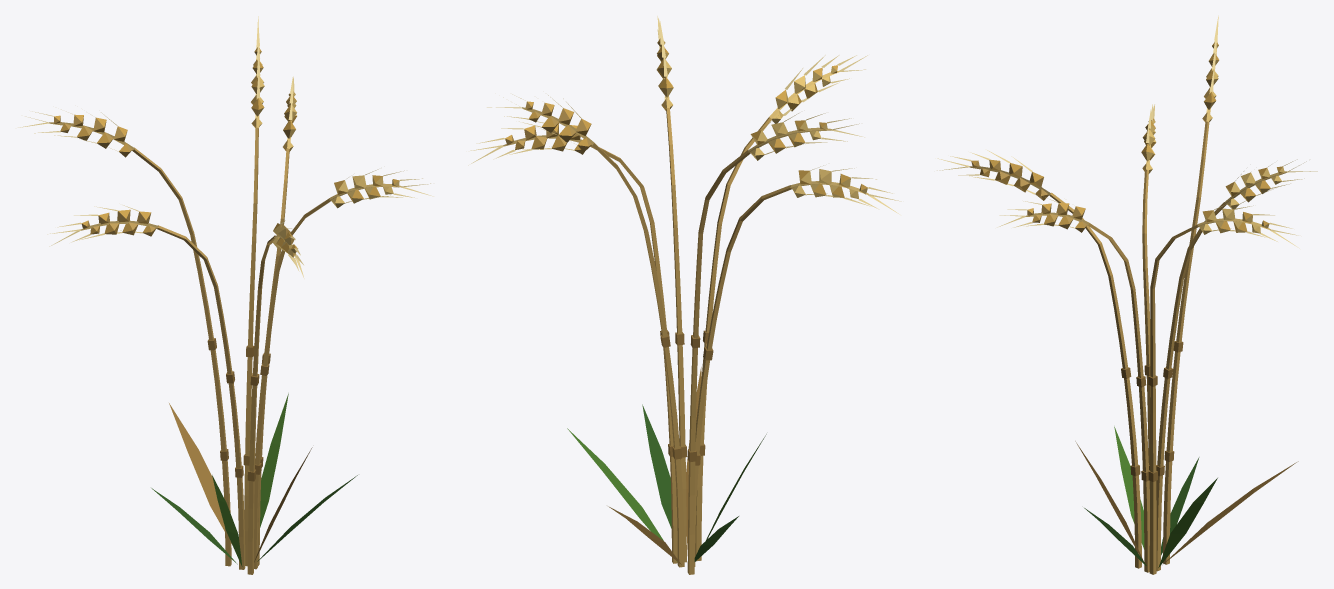
File: wheat_wild3_v2.fbx
3 views of the same model, side by side, from view 1: azimuth 30°, elevation 25°; view 2: azimuth 150°, elevation 25°; view 3: azimuth 270°, elevation 25° (orthographic). The views are drawn at different scales.
Parts seen in each view (by area): view 1: wheat_wild3_v2; view 2: wheat_wild3_v2; view 3: wheat_wild3_v2.
Part boxes in pixels (x1,y1,x2,y2): wheat_wild3_v2: (18,16,433,574); wheat_wild3_v2: (468,16,901,574); wheat_wild3_v2: (937,15,1317,574).
Bounding box in the file's own units: 77.47 × 109 × 82.19.
